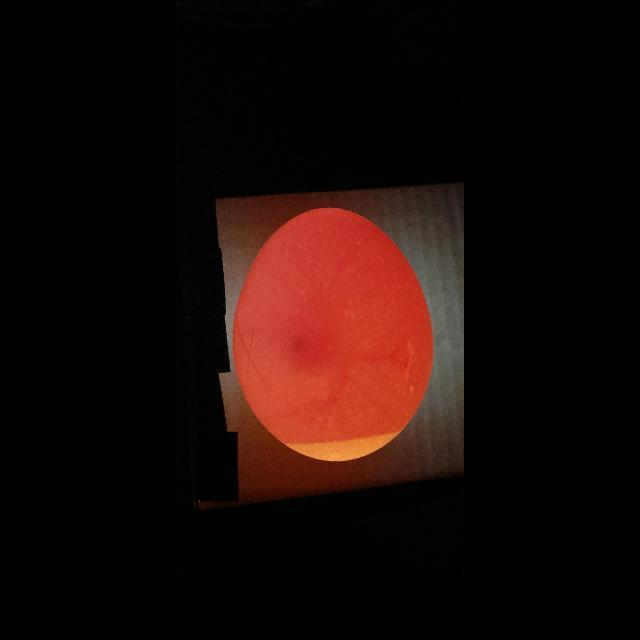Fertile: (225, 200, 439, 472)
